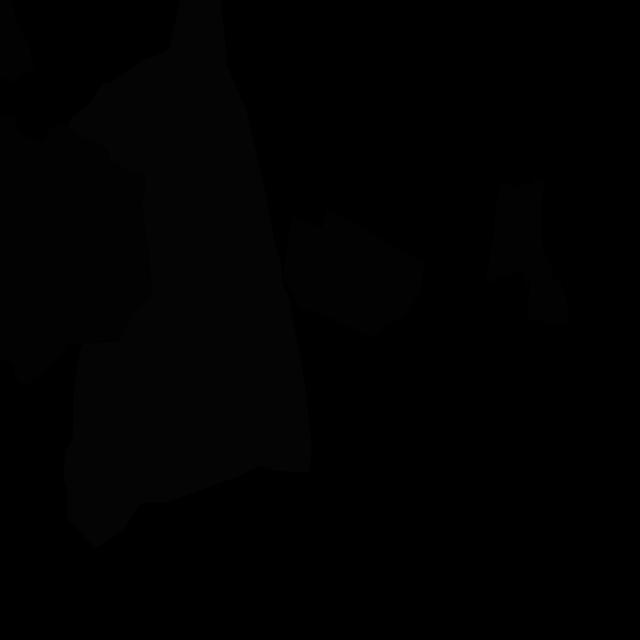cardboard: (0, 115, 152, 387), (283, 208, 425, 338), (484, 178, 568, 327)
soft_plastic: (64, 0, 312, 548)
